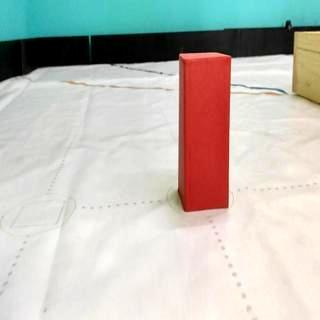redbox: (176, 51, 232, 214)
